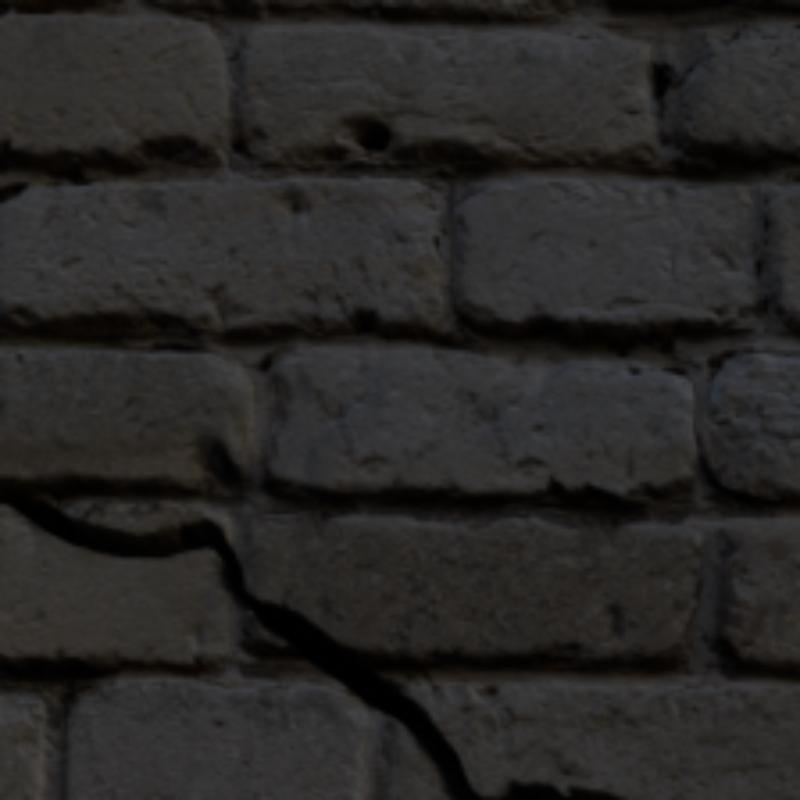crack: (0, 482, 479, 796)
